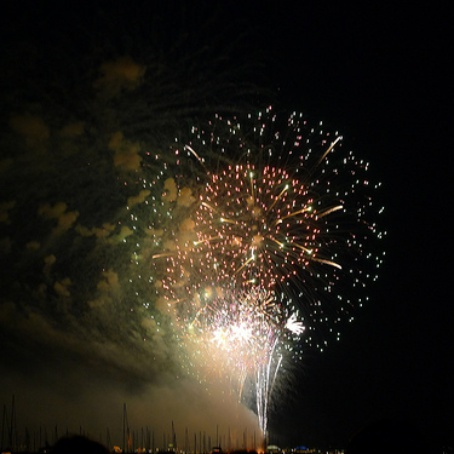fireworks: (120, 67, 405, 388)
